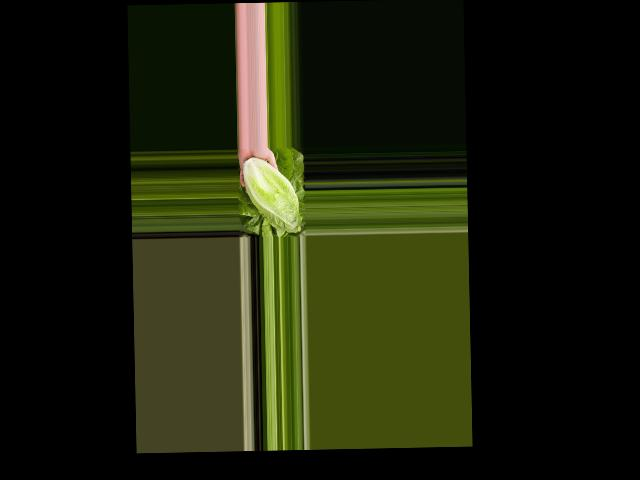lettuce: (240, 155, 301, 234)
